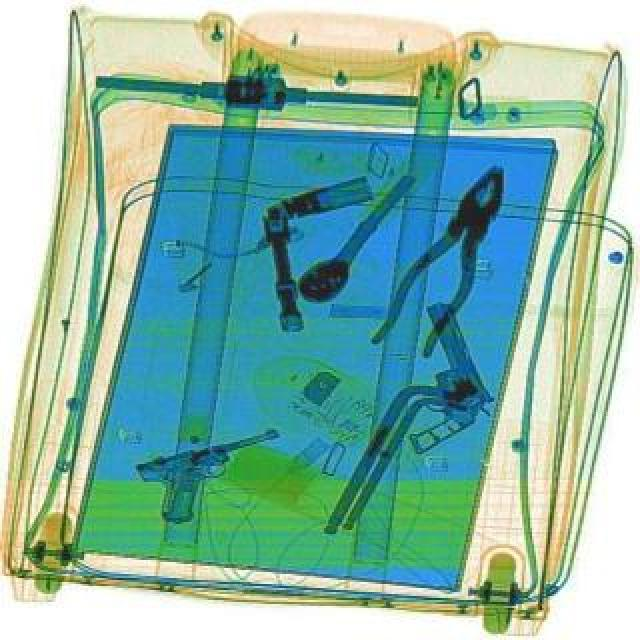gun: (362, 298, 502, 454), (134, 420, 296, 528)
wrench: (366, 150, 522, 366)
